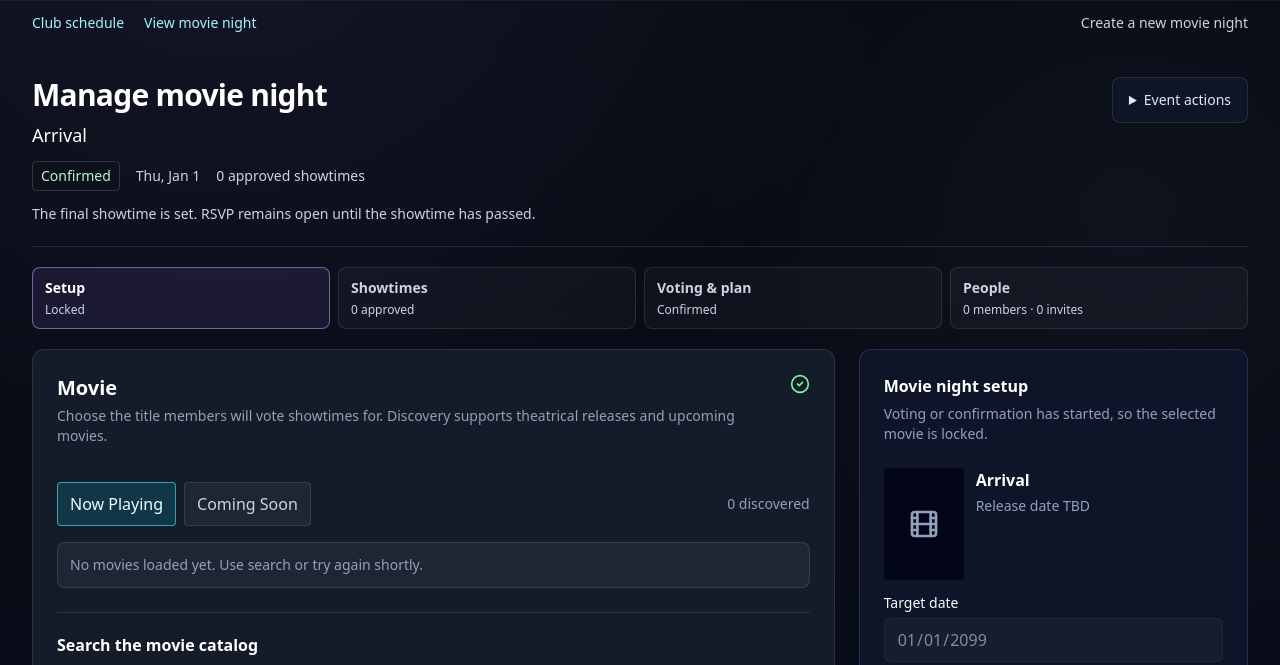
it: event administration lifecycle › can end confirmed nights with showtime 2000-01-01T18:00:00Z from any tab
Click the heading "Event actions" at (1187, 100), box [1144,90,1231,109]
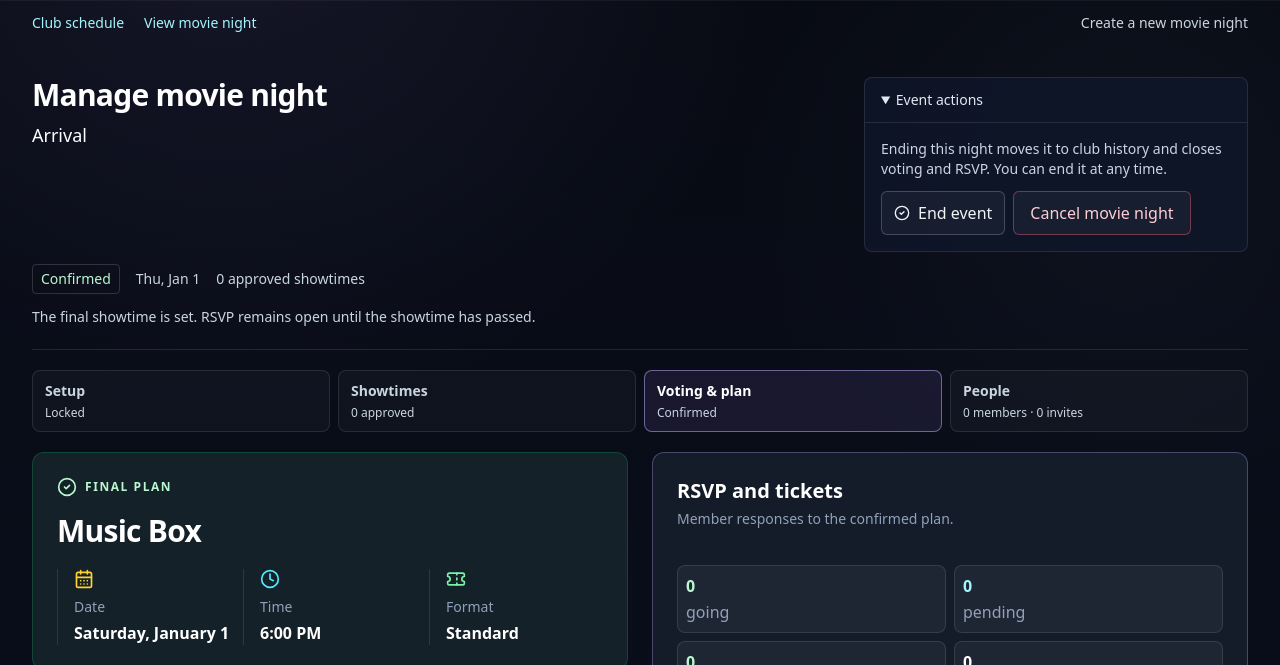
Expected: the button "End event" is enabled, [881,191,1005,235]
Click the tab "People 0 members · 0 invites" at (987, 390), box [950,370,1248,432]
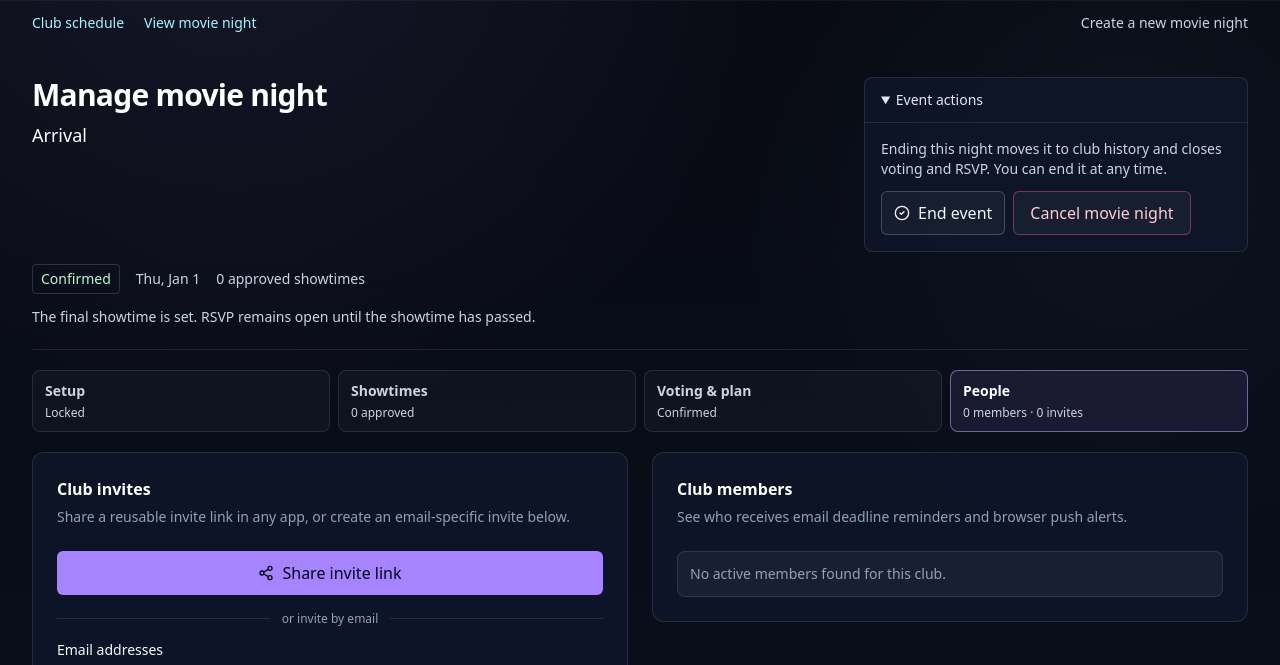
Expected: the button "End event" is shown
Click the button "End event" at (943, 213), box [881,191,1005,235]
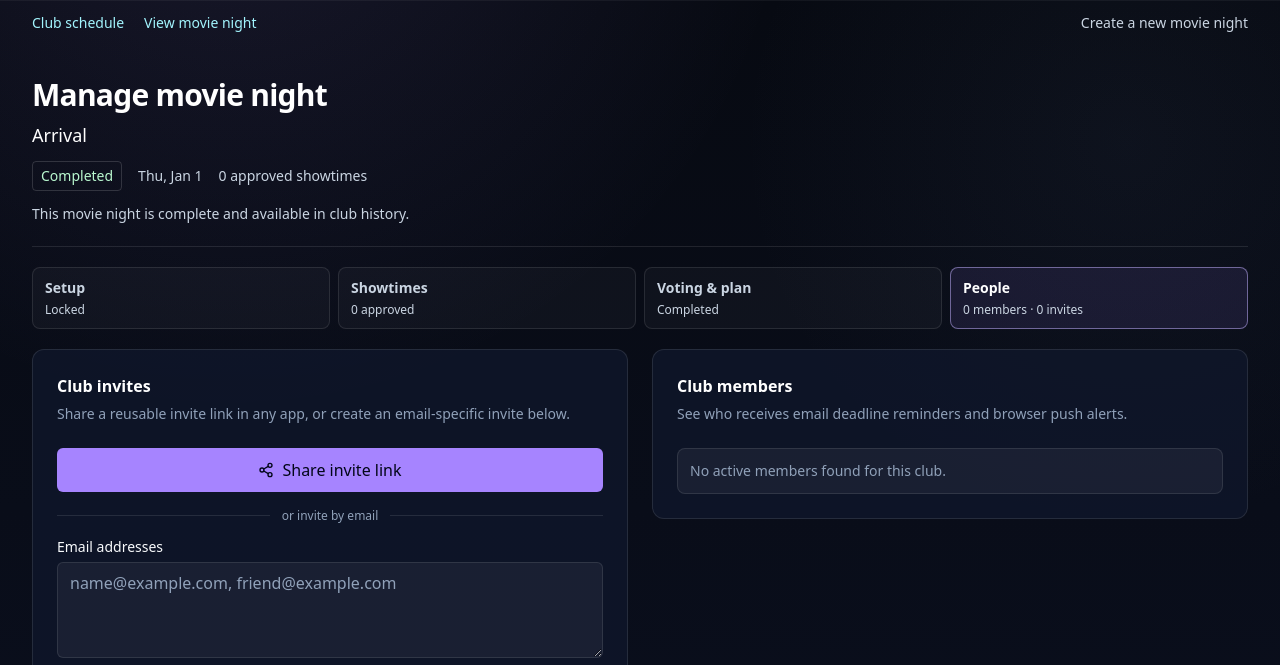
Expected: the button "End event" is gone
